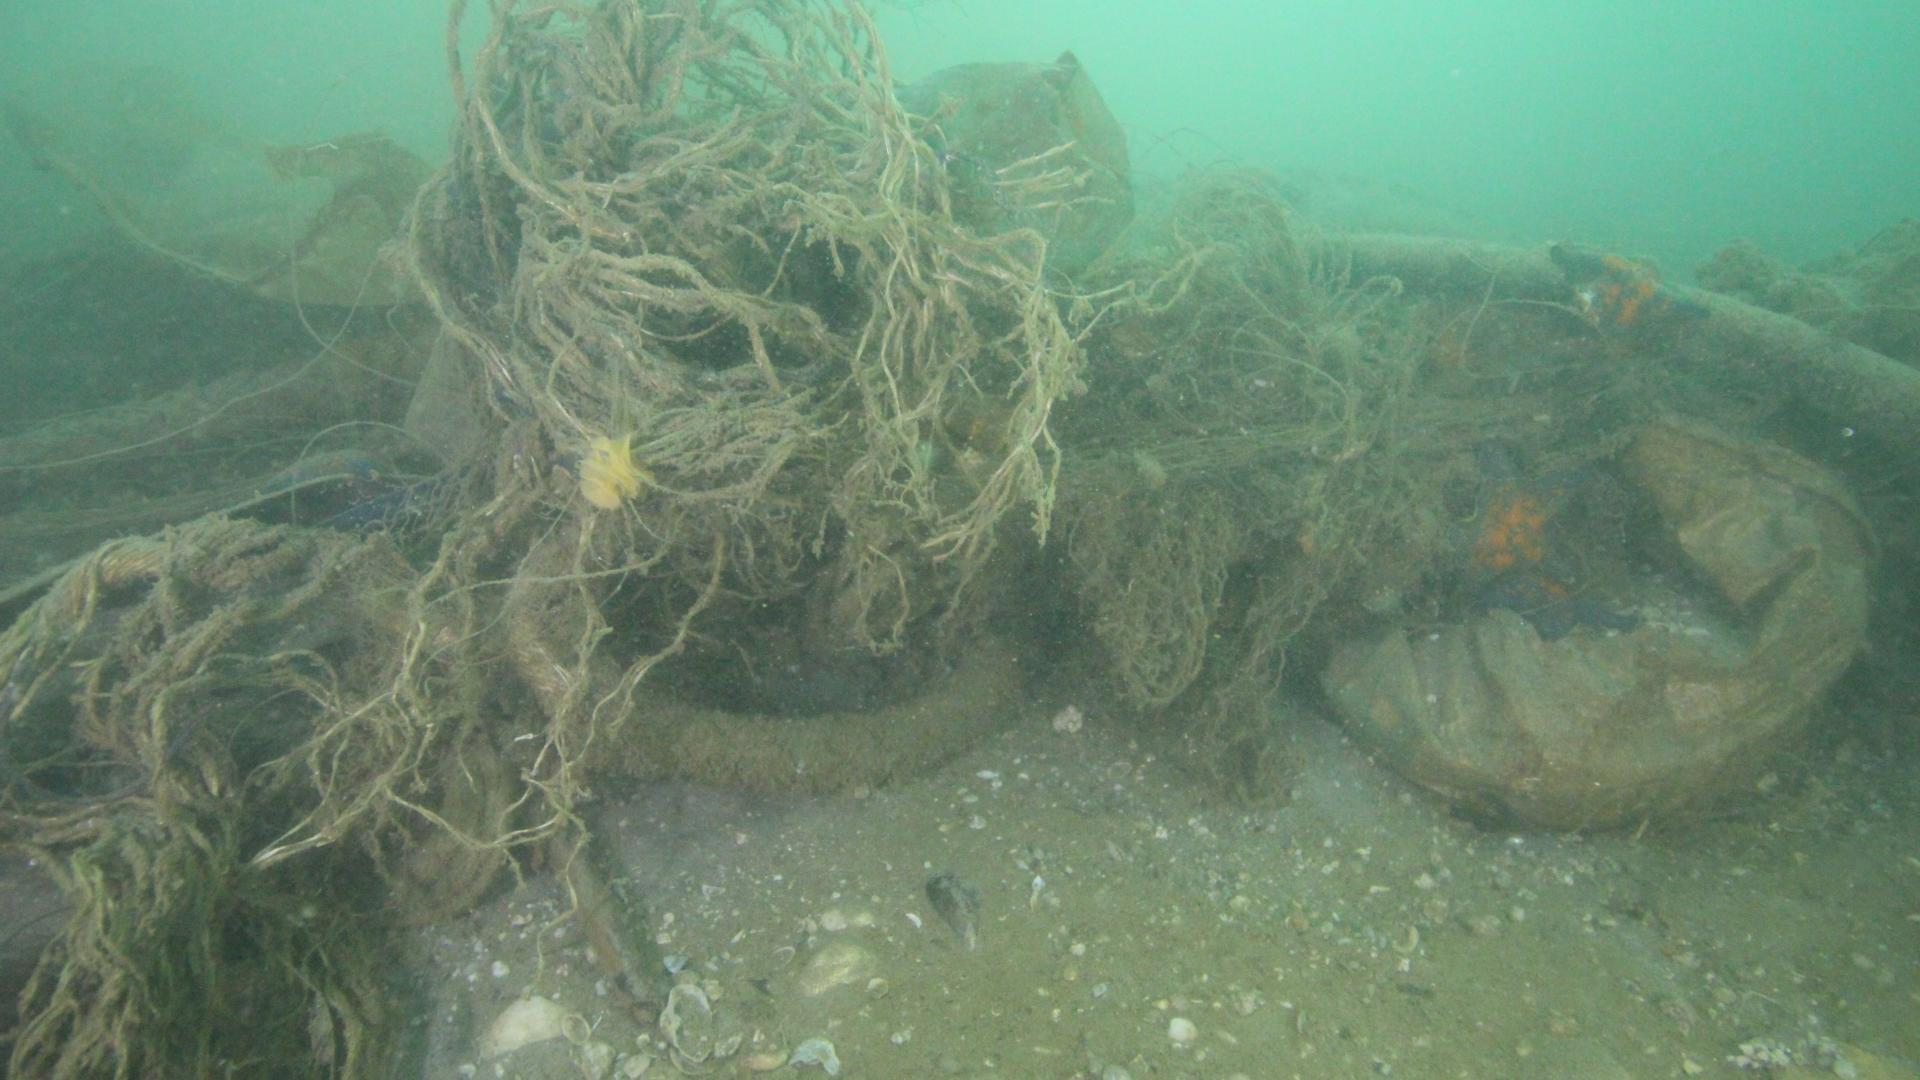rope: (0, 334, 433, 483)
